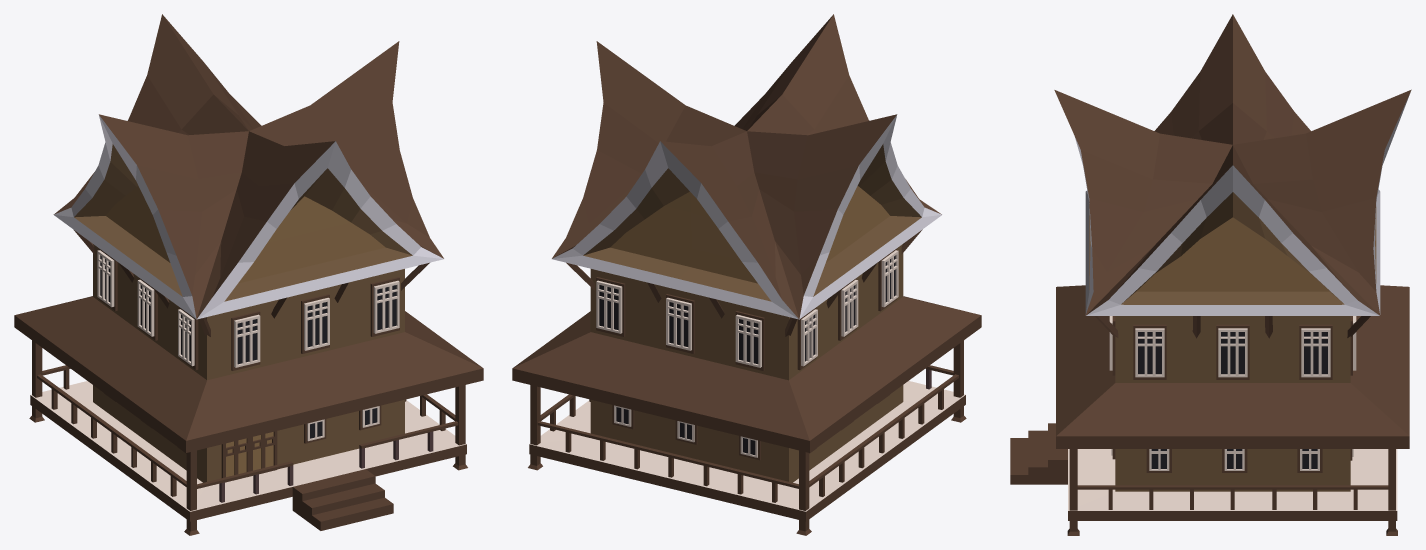
Rendered from rumah atta.fbx.
3 renders of one model, left to right at view 1: azimuth 30°, elevation 25°; view 2: azimuth 150°, elevation 25°; view 3: azimuth 270°, elevation 25°, orthographic. The views are drawn at different scales.
Parts seen in each view (by area): view 1: Cube.023, Cube.016, Cube.028, Cube.027, Cube.018, Cube.026, Cube.022, Cube.017, Cube.020, Cube.019; view 2: Cube.023, Cube.016, Cube.028, Cube.018, Cube.022, Cube.026, Cube.025, Cube.033; view 3: Cube.023, Cube.016, Cube.018, Cube.027, Cube.026, Cube.021, Cube.022, Cube.028.
Boxes of the visible parts, box(x1,y1,x2,y2) form: Cube.023: box(53, 14, 443, 319); Cube.016: box(14, 244, 483, 521); Cube.028: box(231, 277, 399, 370); Cube.027: box(292, 469, 393, 530); Cube.018: box(97, 248, 198, 369); Cube.026: box(37, 374, 455, 496); Cube.022: box(29, 340, 467, 535); Cube.017: box(221, 431, 277, 482); Cube.020: box(197, 421, 458, 502); Cube.019: box(304, 405, 381, 443); Cube.023: box(552, 14, 942, 319); Cube.016: box(512, 244, 981, 521); Cube.028: box(596, 277, 764, 370); Cube.018: box(797, 248, 898, 370); Cube.022: box(528, 340, 966, 535); Cube.026: box(540, 374, 958, 496); Cube.025: box(537, 421, 798, 502); Cube.033: box(612, 405, 760, 460); Cube.023: box(1054, 14, 1411, 315); Cube.016: box(1056, 285, 1409, 520); Cube.018: box(1133, 324, 1332, 379); Cube.027: box(1010, 423, 1067, 484); Cube.026: box(1077, 485, 1388, 509); Cube.021: box(1146, 449, 1322, 472); Cube.022: box(1067, 449, 1397, 535); Cube.028: box(1109, 316, 1356, 375).
Bounding box in the file's own units: 1820 × 2114 × 2043.
